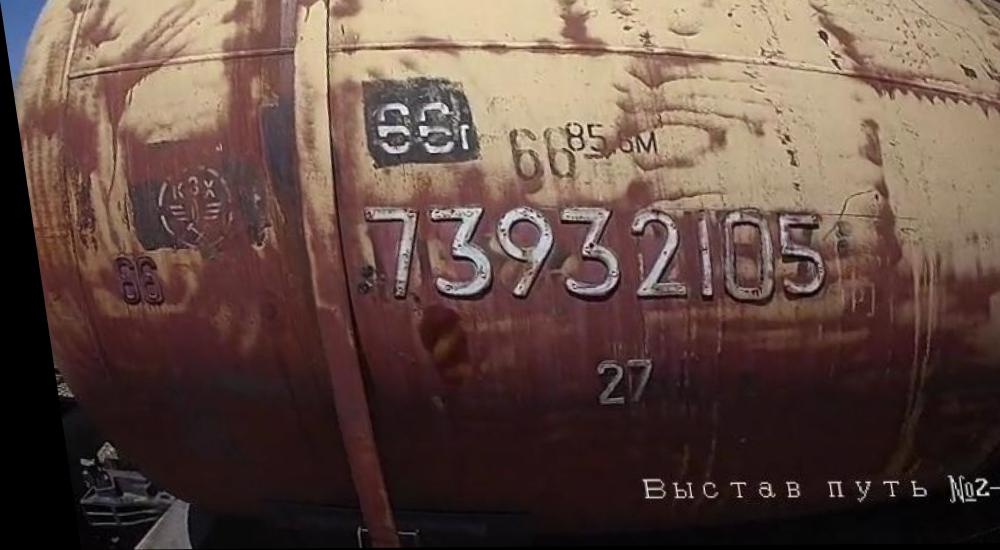Wagon-number: (352, 197, 828, 307)
